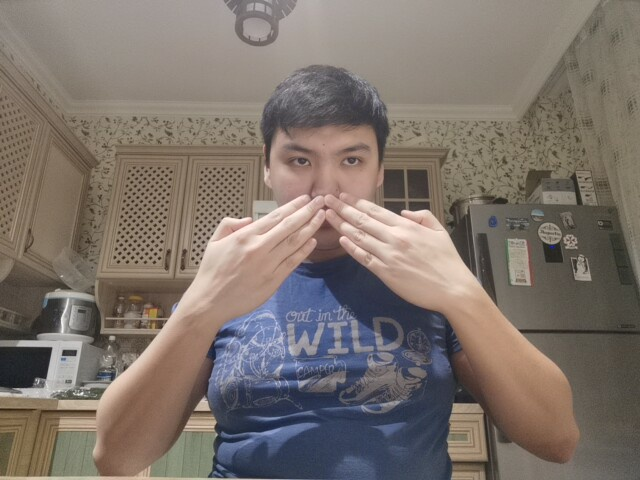Thanks: (155, 192, 502, 327)
